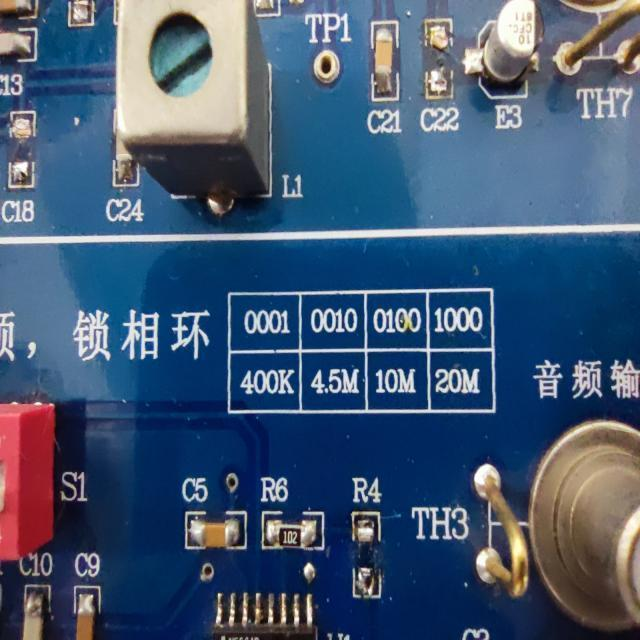Missing component: (347, 464, 392, 620), (414, 8, 463, 144), (5, 106, 40, 232)
